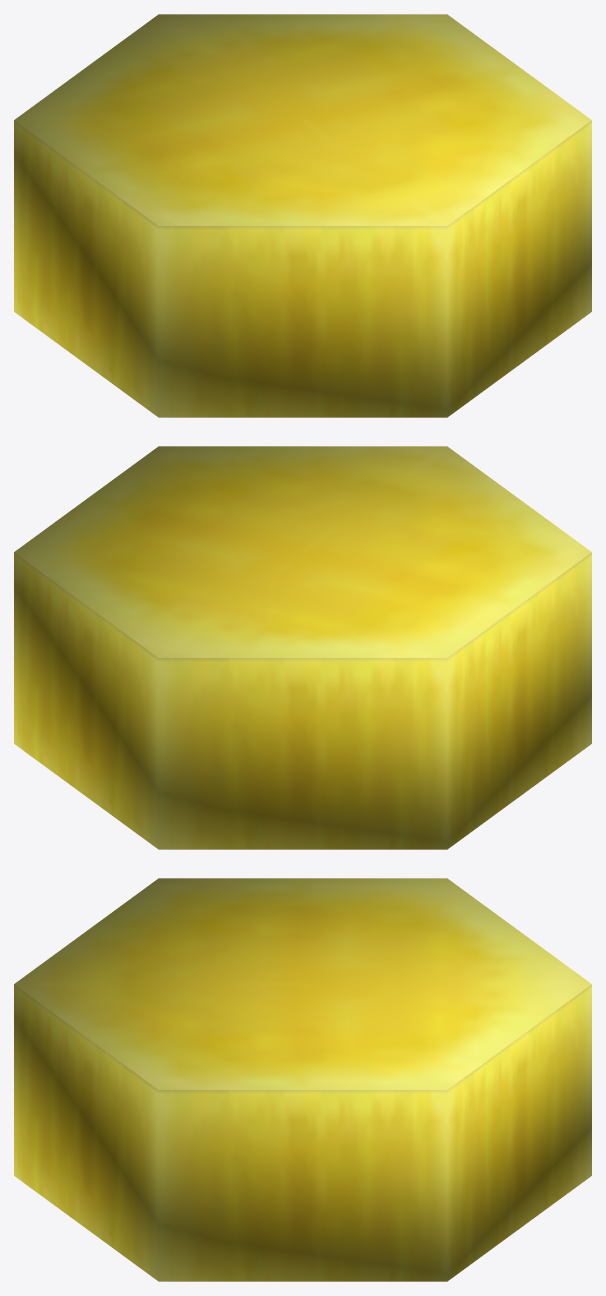
File: cheesewheel01.obj
3 renders of one model, top to bottom at view 1: azimuth 30°, elevation 25°; view 2: azimuth 150°, elevation 25°; view 3: azimuth 270°, elevation 25°, orthographic.
Visible parts, largest first — view 1: cheesewheel01; view 2: cheesewheel01; view 3: cheesewheel01.
Boxes of the visible parts, bbox=[...] form: cheesewheel01: bbox=[14, 14, 591, 417]; cheesewheel01: bbox=[14, 446, 591, 849]; cheesewheel01: bbox=[14, 878, 591, 1281].
Bounding box in the file's own units: 0.0778 × 0.0328 × 0.0898.
1 material, 1 textured.
